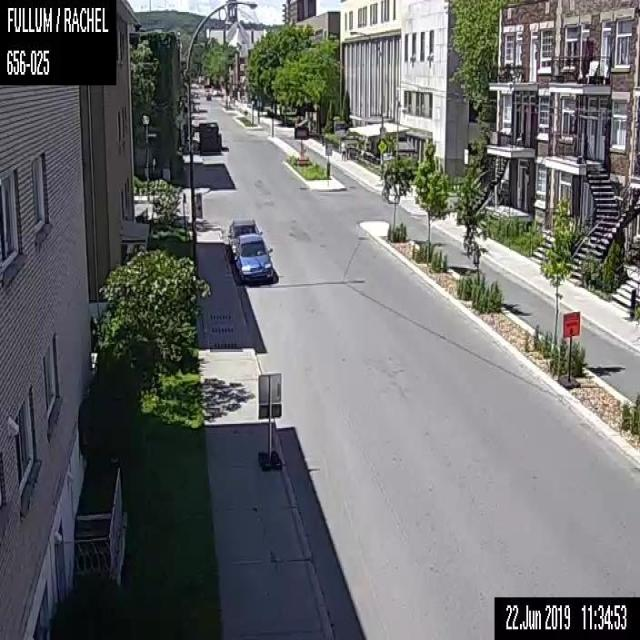construction: (292, 126, 310, 166), (562, 310, 580, 337)
pedestrian: (340, 137, 345, 160)
vehicle: (234, 234, 273, 281), (227, 219, 262, 255), (205, 91, 210, 100)
